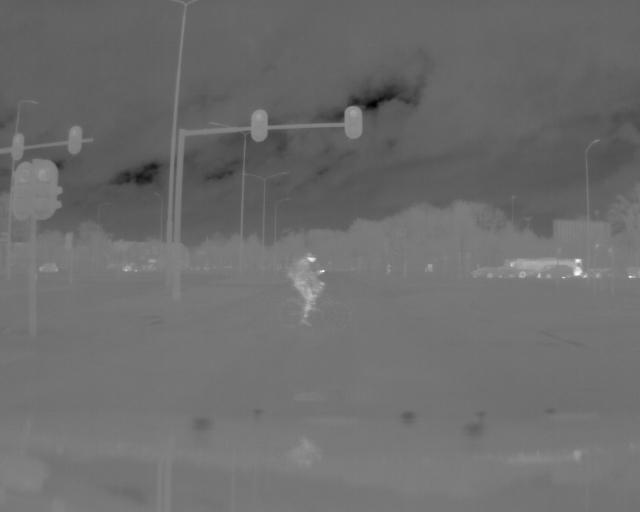car: (537, 263, 577, 282), (469, 262, 503, 282)
person: (284, 246, 332, 333)
